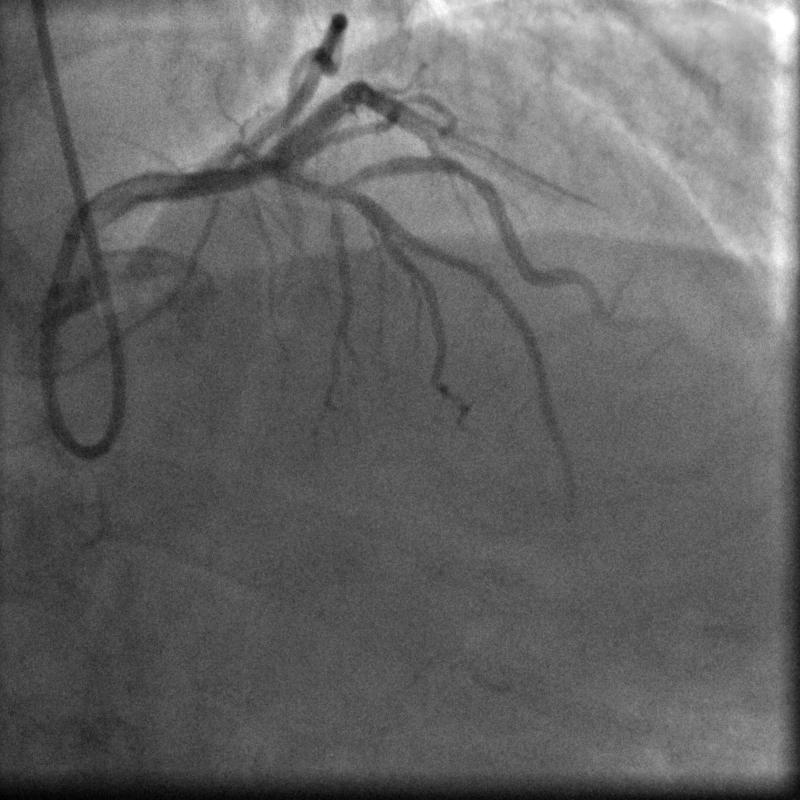Stenosis: (449, 151, 492, 190)
